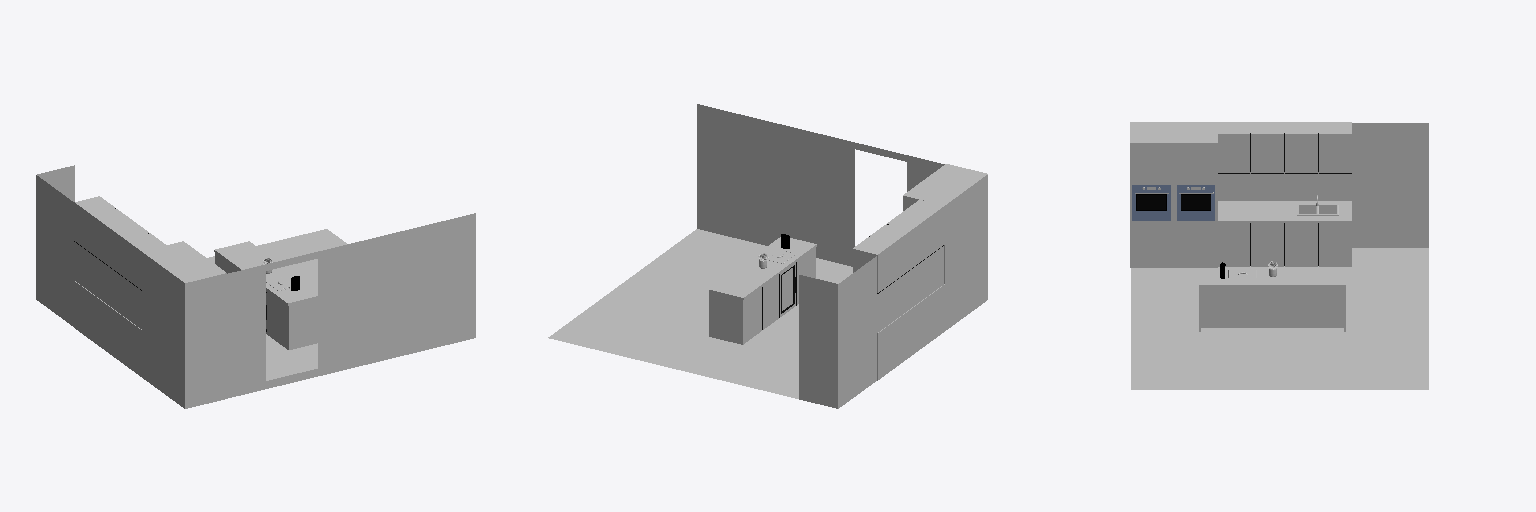
3 views of the same model, side by side, from view 1: azimuth 30°, elevation 25°; view 2: azimuth 150°, elevation 25°; view 3: azimuth 270°, elevation 25° (orthographic).
Visible parts, largest first — view 1: WindowWall_Wall, Cupboards_Cupboard, WindowWall.002_Wall, Floor_Floor, Tiles_Tiles, Counters_Counter, WindowWall.001_Wall; view 2: WindowWall_Wall, Floor_Floor, Cupboards_Cupboard, WindowWall.002_Wall, WindowWall.001_Wall, Tiles_Tiles, Counters_Counter; view 3: Floor_Floor, Cupboards_Cupboard, WindowWall.002_Wall, Counters_Counter, Tiles_Tiles, Ovens_Oven, Ovens_OvenWindow.
Boxes of the visible parts, x1,y1,x2,y2 form: WindowWall_Wall: [227, 213, 475, 398]; Cupboards_Cupboard: [74, 196, 317, 408]; WindowWall.002_Wall: [36, 175, 75, 326]; Floor_Floor: [207, 229, 346, 380]; Tiles_Tiles: [76, 243, 141, 328]; Counters_Counter: [74, 241, 317, 332]; WindowWall.001_Wall: [37, 165, 74, 201]; WindowWall_Wall: [697, 104, 944, 266]; Floor_Floor: [548, 229, 852, 398]; Cupboards_Cupboard: [709, 164, 987, 380]; WindowWall.002_Wall: [838, 256, 877, 408]; WindowWall.001_Wall: [799, 275, 837, 408]; Tiles_Tiles: [878, 246, 943, 331]; Counters_Counter: [709, 237, 944, 335]; Floor_Floor: [1131, 248, 1428, 389]; Cupboards_Cupboard: [1130, 122, 1351, 331]; WindowWall.002_Wall: [1350, 123, 1428, 247]; Counters_Counter: [1199, 201, 1351, 286]; Tiles_Tiles: [1218, 172, 1349, 200]; Ovens_Oven: [1132, 185, 1214, 220]; Ovens_OvenWindow: [1137, 195, 1210, 209].
Bounding box in the file's own units: 13.42 × 5.54 × 11.93.
23 materials, 1 textured.